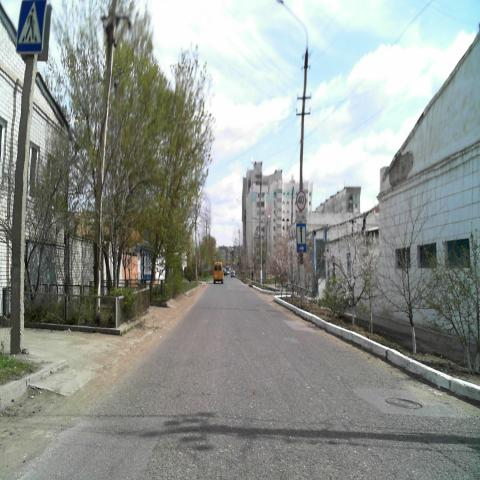7_4: (296, 222, 306, 253)
